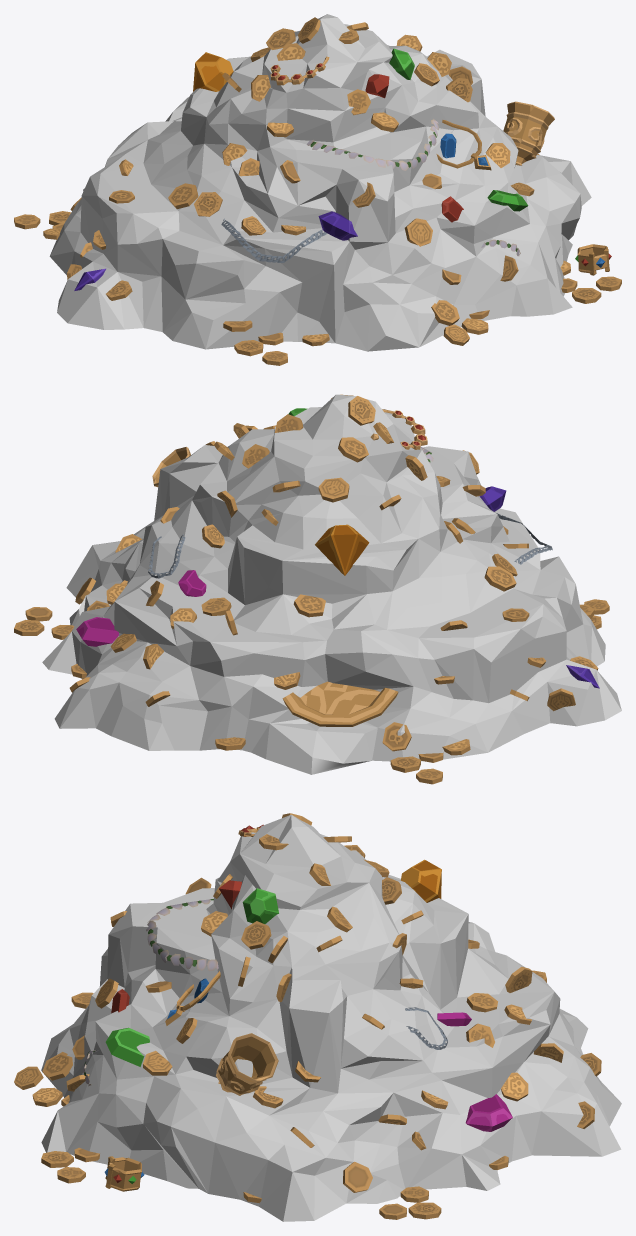
Rendered from SM_Prop_Treasure_Pile_04.fbx.
3 views of the same model, one above another, from view 1: azimuth 30°, elevation 25°; view 2: azimuth 150°, elevation 25°; view 3: azimuth 270°, elevation 25° (orthographic). The views are drawn at different scales.
Visible parts, largest first — view 1: SM_Prop_Treasure_Pile_04; view 2: SM_Prop_Treasure_Pile_04; view 3: SM_Prop_Treasure_Pile_04.
Boxes of the visible parts, x1,y1,x2,y2 form: SM_Prop_Treasure_Pile_04: [14, 14, 621, 365]; SM_Prop_Treasure_Pile_04: [14, 394, 621, 784]; SM_Prop_Treasure_Pile_04: [14, 813, 621, 1221].
Bounding box in the file's own units: 217 × 96.59 × 200.
